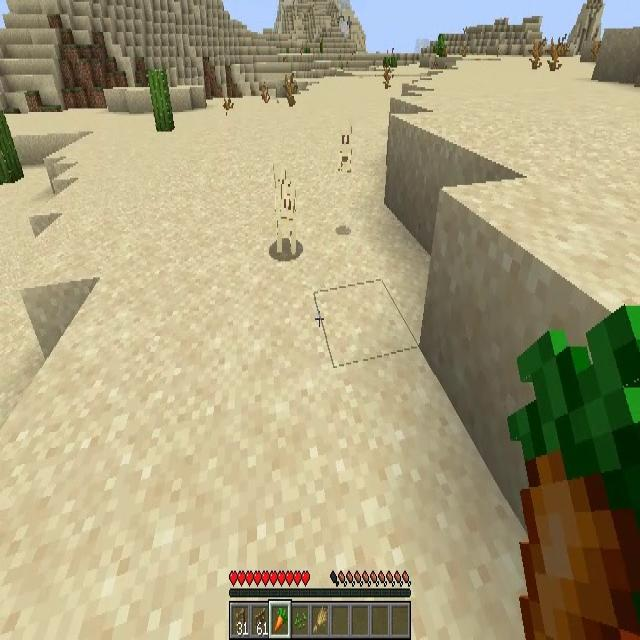rabbit: (276, 184, 296, 256), (337, 119, 353, 169), (273, 168, 289, 212)
